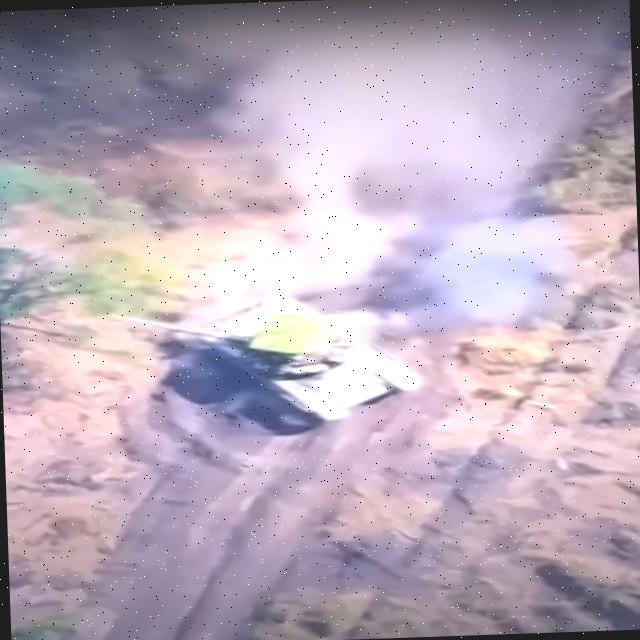MBT: (101, 287, 442, 432)
